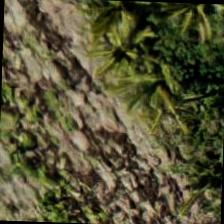Kelapa_Sawit: (115, 106, 208, 198)
